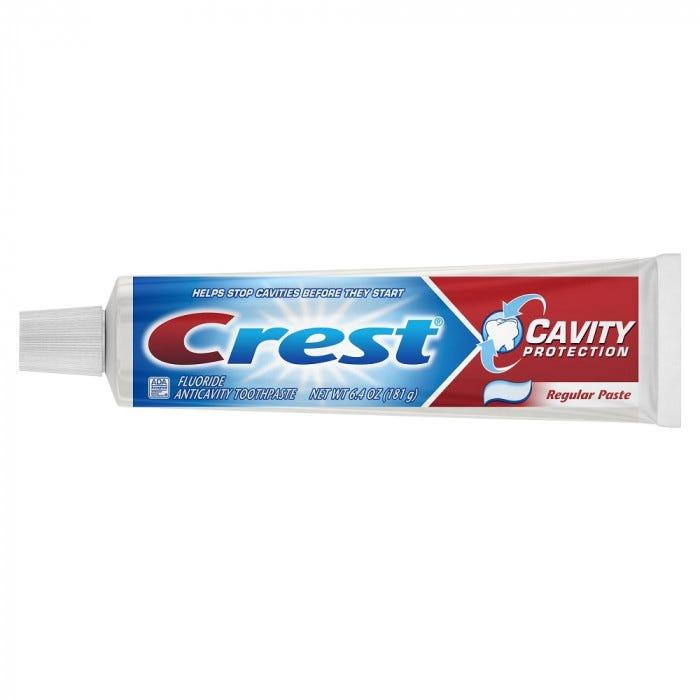toothpaste: (0, 251, 693, 433)
